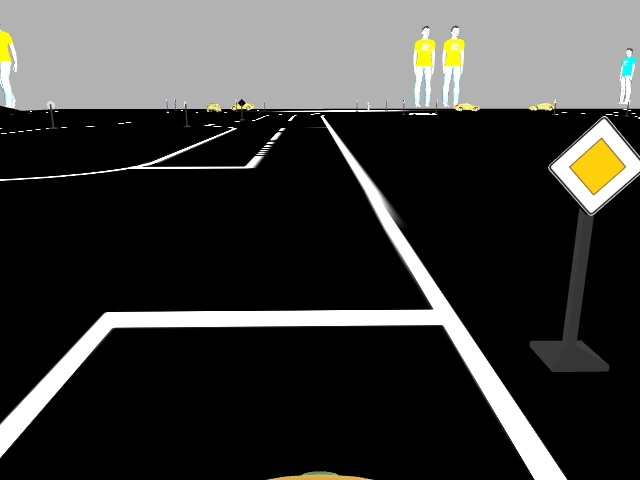Priority: (552, 118, 635, 208)
